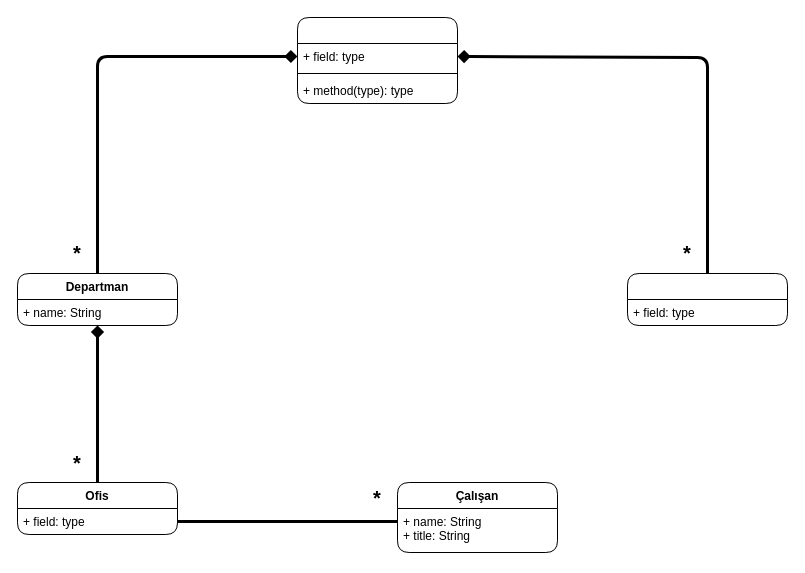
The diagram is 805 pixels wide and 573 high, and some of its shapes have lost their labels. The box of each missing label's shape, as (x1, y1, x2, y2) in pixels:
Sınıflık: (626, 272, 788, 326)
Üniversite: (296, 16, 458, 104)
